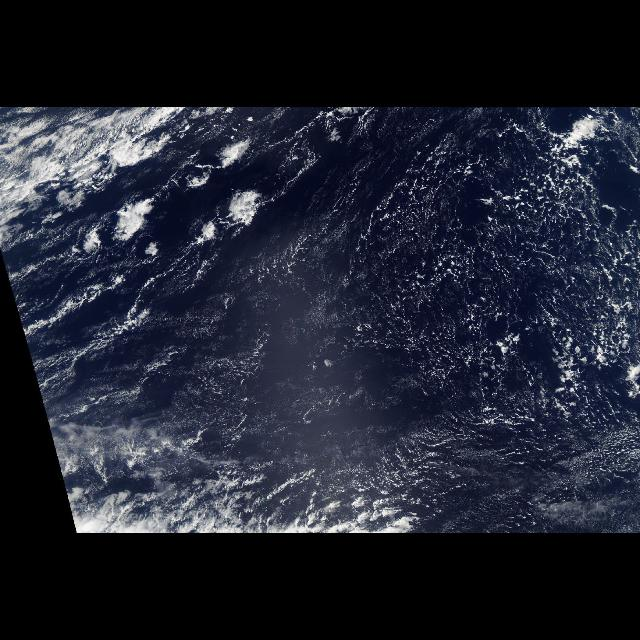Flower: (73, 164, 277, 306)
Gravel: (298, 120, 640, 448)
